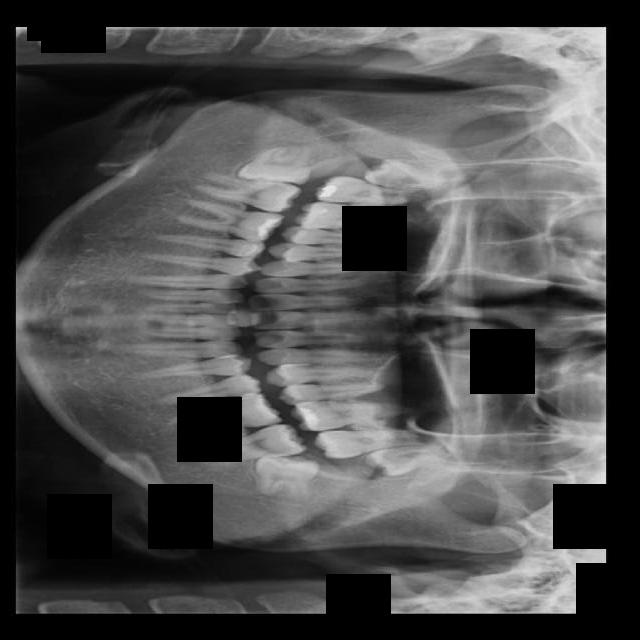3M ESPE Implant: (361, 157, 448, 191)
52: (229, 200, 284, 249), (287, 396, 345, 436), (313, 175, 367, 204), (293, 201, 348, 229)
73: (38, 593, 52, 602)
BioHorizons Implant: (312, 425, 422, 461)
BioLife Implant: (361, 441, 456, 479)
Biomet 3i Implant: (246, 446, 320, 506)
Blue Sky Bio Implant: (197, 420, 307, 470)
Caries: (313, 174, 426, 207)
Implant: (190, 171, 302, 216)
Keystone Dental Implant: (236, 144, 311, 185)
